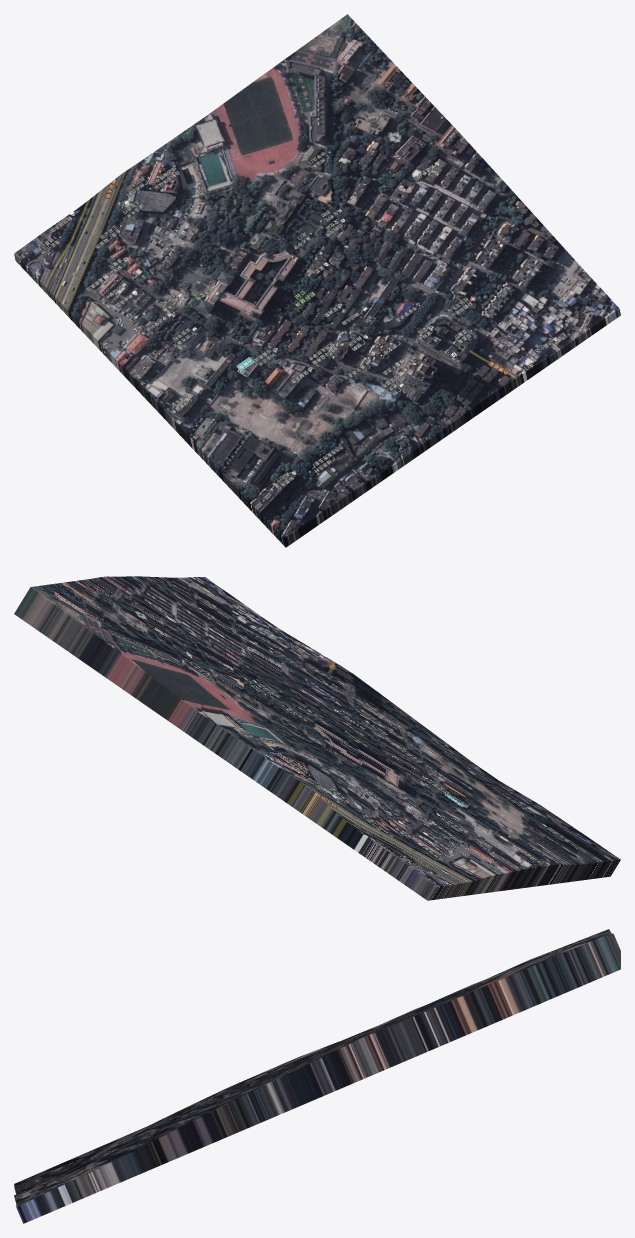
The picture shows the model from 3 angles, top to bottom: view 1: azimuth 30°, elevation 25°; view 2: azimuth 150°, elevation 25°; view 3: azimuth 270°, elevation 25°; orthographic projection. The views are drawn at different scales.
Visible parts, largest first — view 1: 0_18_7; view 2: 0_18_7; view 3: 0_18_7.
Part boxes in pixels (x1=…): 0_18_7: x1=14, y1=14, x2=620, y2=547; 0_18_7: x1=14, y1=576, x2=620, y2=900; 0_18_7: x1=14, y1=929, x2=620, y2=1223.
Size of the model in its own units: 598 by 456 by 551.
Materials: 1 (1 with a texture image).
